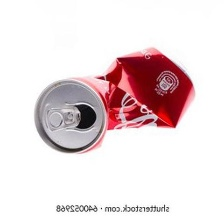can: (24, 42, 201, 160)
